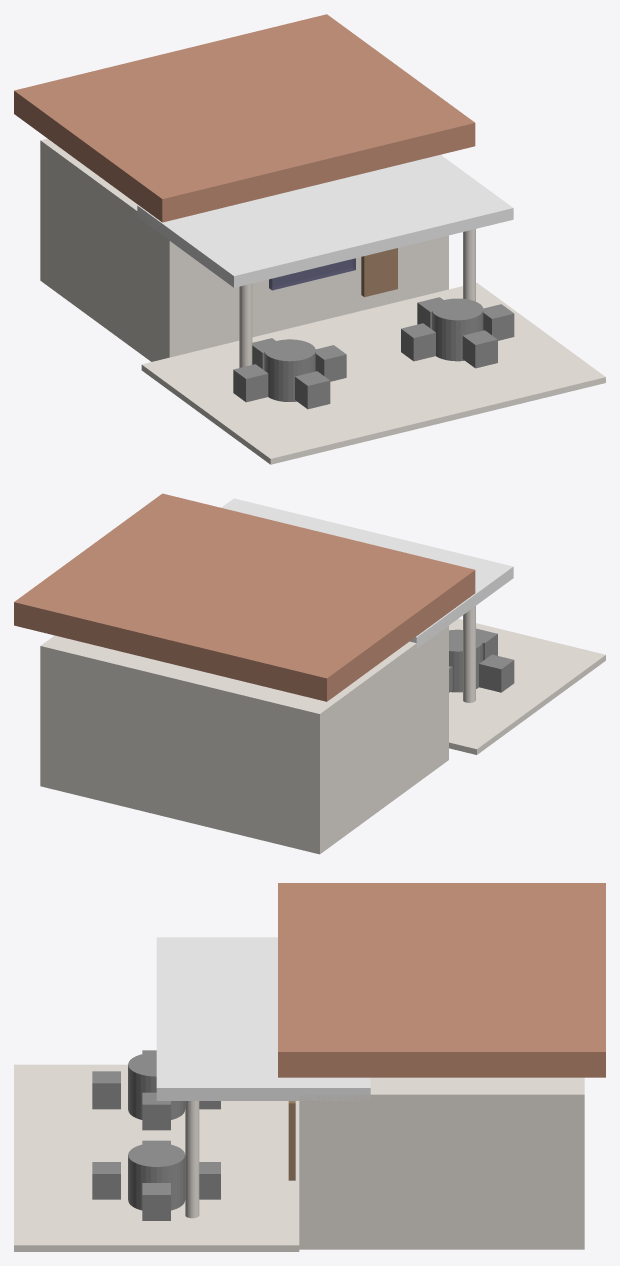
File: CofeeShop.fbx
The picture shows the model from 3 angles, top to bottom: view 1: azimuth 30°, elevation 25°; view 2: azimuth 150°, elevation 25°; view 3: azimuth 270°, elevation 25°; orthographic projection. The views are drawn at different scales.
Parts seen in each view (by area): view 1: CoffeeShop_Building, CoffeeShop_SeatingArea, CoffeeShop_Awning, CoffeeShop_Table2, CoffeeShop_Table1, CoffeeShop_Posts, CoffeeShop_Door, CoffeeShop_Windows; view 2: CoffeeShop_Building, CoffeeShop_SeatingArea, CoffeeShop_Awning, CoffeeShop_Table1, CoffeeShop_Posts; view 3: CoffeeShop_Building, CoffeeShop_SeatingArea, CoffeeShop_Awning, CoffeeShop_Table2, CoffeeShop_Table1, CoffeeShop_Posts, CoffeeShop_Door.
Boxes of the visible parts, bbox=[...] form: CoffeeShop_Building: bbox=[14, 14, 475, 361]; CoffeeShop_SeatingArea: bbox=[141, 282, 605, 464]; CoffeeShop_Awning: bbox=[137, 154, 513, 287]; CoffeeShop_Table2: bbox=[401, 297, 514, 368]; CoffeeShop_Table1: bbox=[233, 338, 346, 409]; CoffeeShop_Posts: bbox=[239, 229, 475, 367]; CoffeeShop_Door: bbox=[361, 248, 397, 297]; CoffeeShop_Windows: bbox=[269, 258, 355, 290]; CoffeeShop_Building: bbox=[14, 493, 475, 854]; CoffeeShop_SeatingArea: bbox=[449, 618, 605, 754]; CoffeeShop_Awning: bbox=[221, 498, 513, 648]; CoffeeShop_Table1: bbox=[449, 628, 514, 692]; CoffeeShop_Posts: bbox=[463, 606, 475, 702]; CoffeeShop_Building: bbox=[278, 883, 605, 1249]; CoffeeShop_SeatingArea: bbox=[14, 1064, 299, 1251]; CoffeeShop_Awning: bbox=[156, 937, 370, 1100]; CoffeeShop_Table2: bbox=[92, 1140, 220, 1220]; CoffeeShop_Table1: bbox=[92, 1050, 220, 1130]; CoffeeShop_Posts: bbox=[185, 1101, 199, 1218]; CoffeeShop_Door: bbox=[288, 1101, 295, 1180].
Size of the model in its own units: 600 by 320 by 830.
